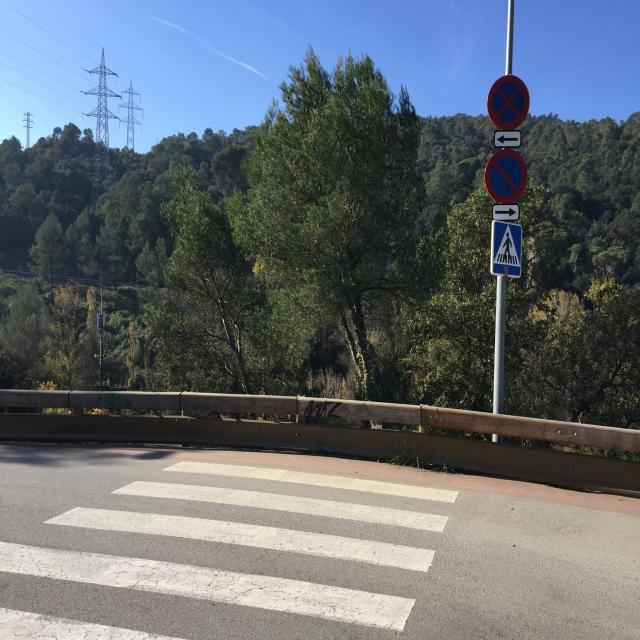forb_stopping: (482, 146, 529, 206)
forb_waiting: (485, 75, 531, 132)
